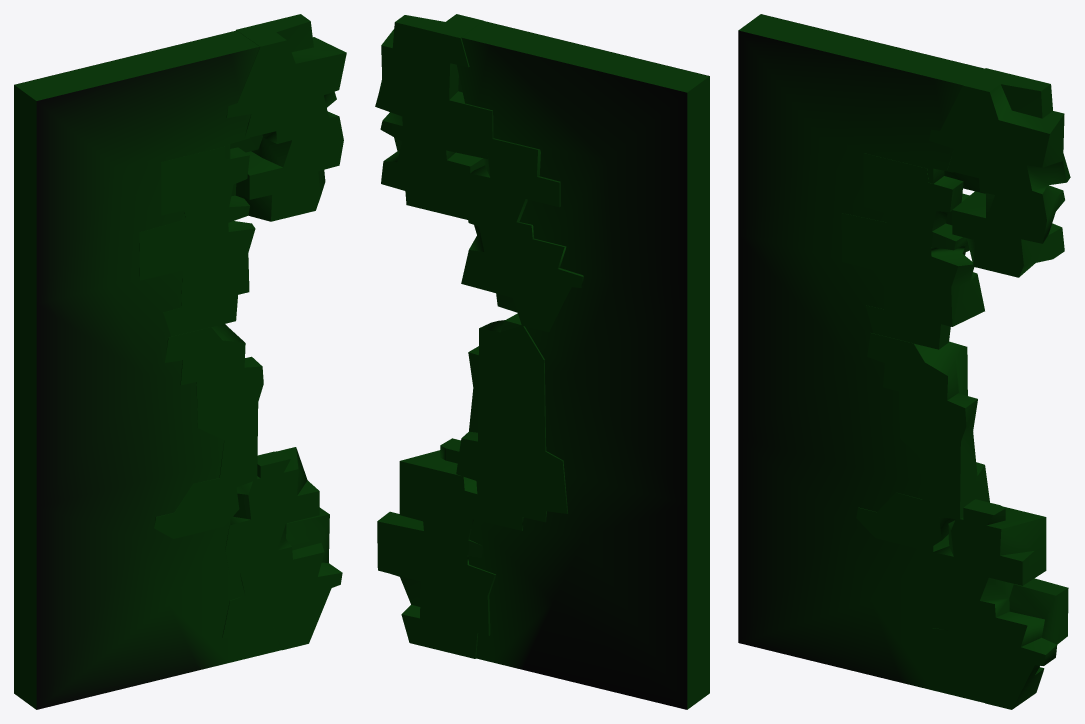
File: DBK_Brick_Side_D.fbx
The picture shows the model from 3 angles, left to right: view 1: azimuth 30°, elevation 25°; view 2: azimuth 150°, elevation 25°; view 3: azimuth 330°, elevation 25°; orthographic projection.
Parts seen in each view (by area): view 1: DBK_Brick_Side_D; view 2: DBK_Brick_Side_D; view 3: DBK_Brick_Side_D.
Part boxes in pixels (<box>): DBK_Brick_Side_D: <box>14,14,346,709</box>; DBK_Brick_Side_D: <box>375,14,709,709</box>; DBK_Brick_Side_D: <box>738,14,1070,709</box>.
Bounding box in the file's own units: 162 × 300 × 21.15.
